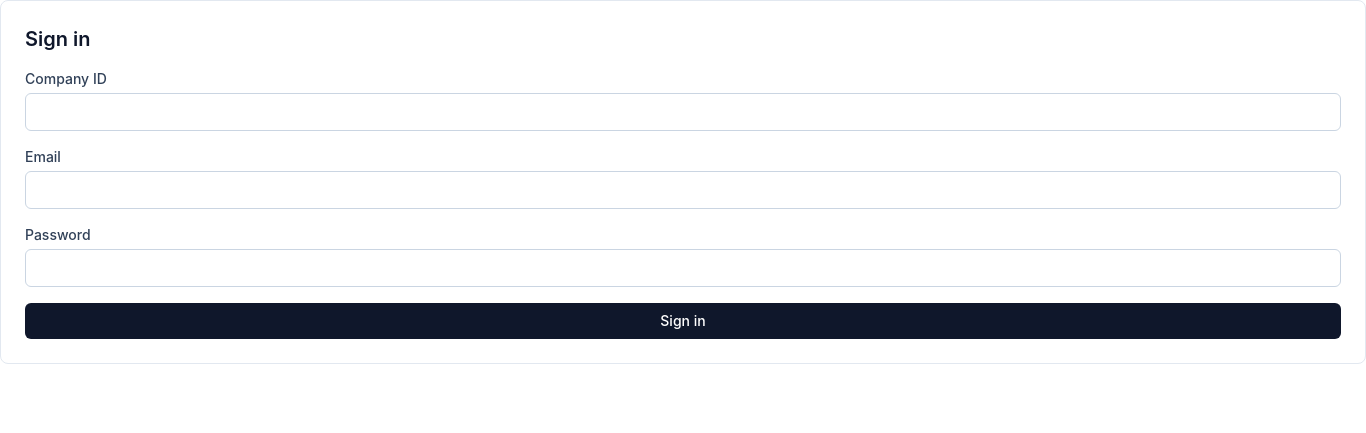
Test case: LoginPage › shows a generic, non-enumerating message for incorrect credentials
The image size is (1366, 433).
Type "10" into the field labelled "Company ID".
click(683, 112); type("10")  # box [25,93,1341,131]
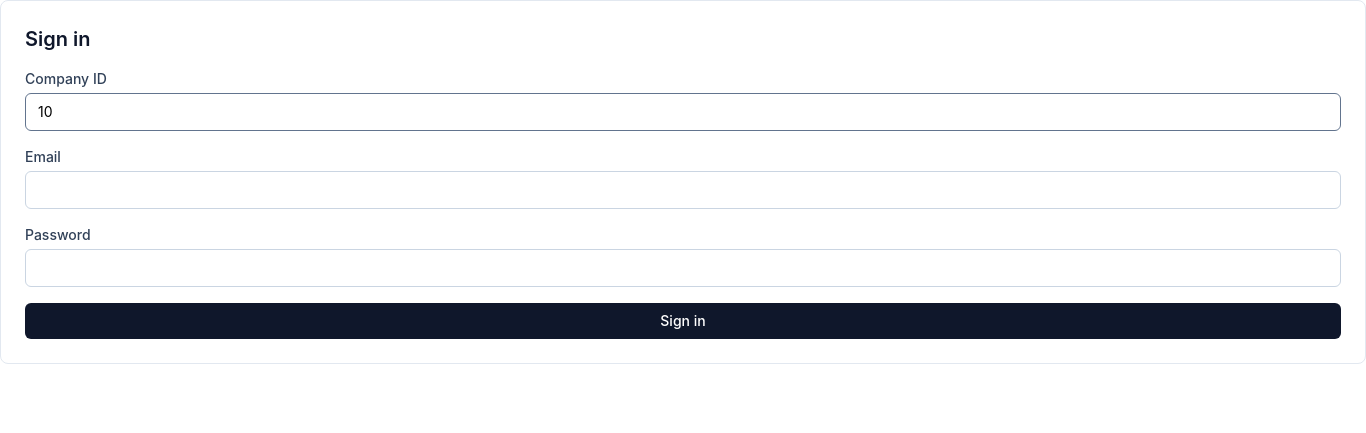
Type "alice@example.com" into the field labelled "Email".
click(683, 190); type("alice@example.com")  # box [25,171,1341,209]
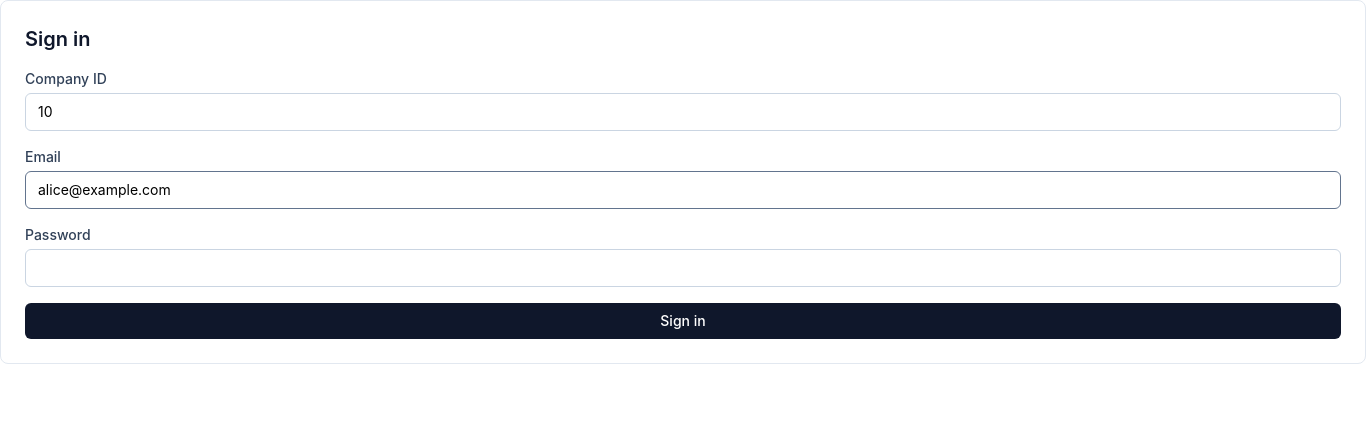
Type "secret" into the password field labelled "Password".
click(683, 268); type("secret")  # box [25,249,1341,287]
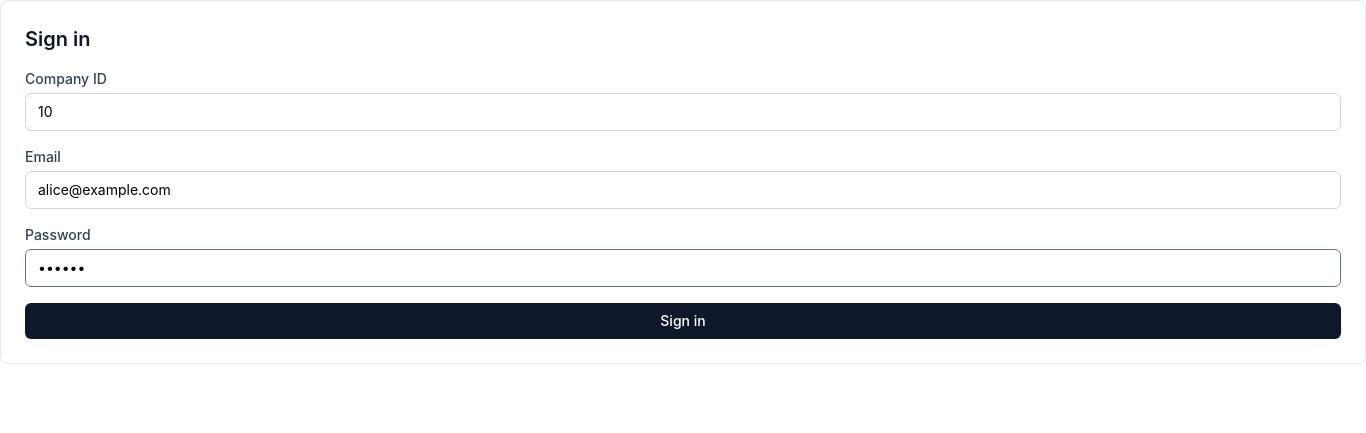
Click the button "Sign in".
click(683, 321)  # box [25,303,1341,339]
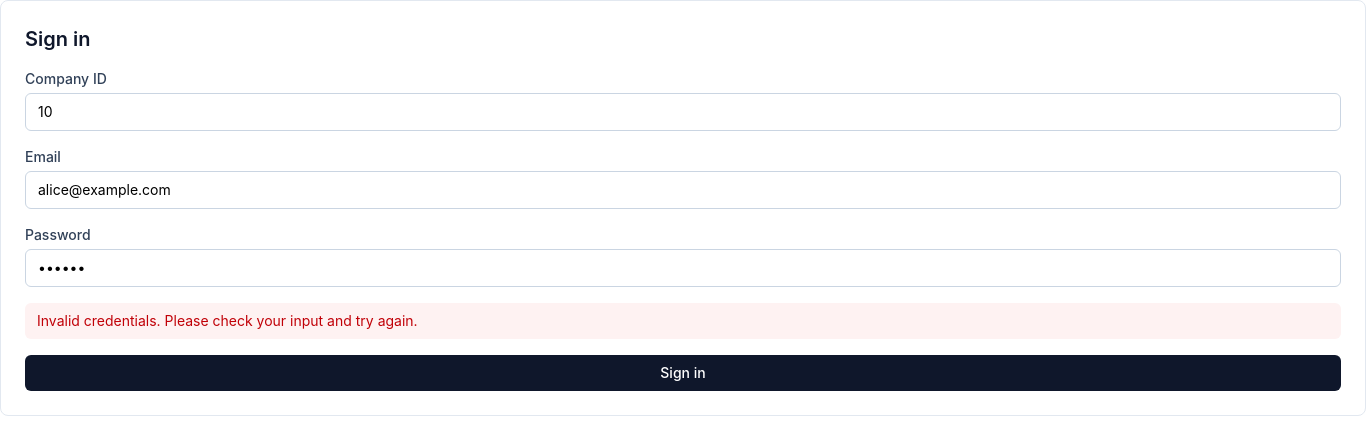
Expected: the message does not show "alice@example.com"
Expected: the message shows "Invalid credentials", [37,312,418,329]
